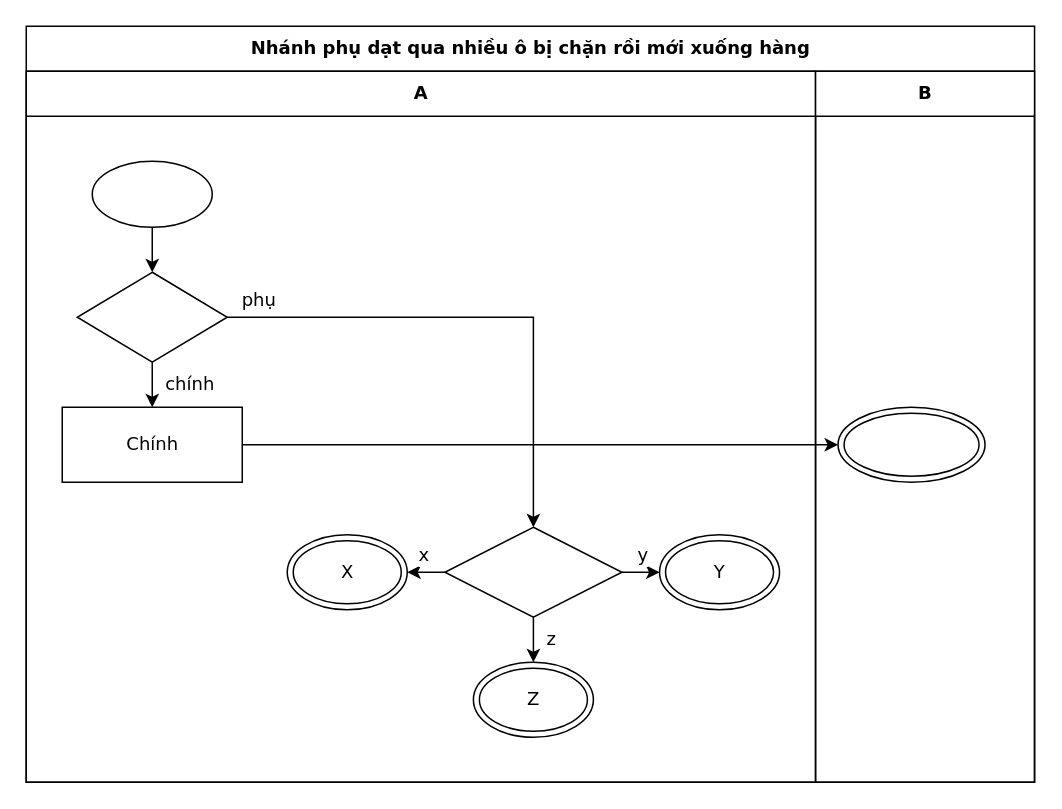
Some shapes in this 1062 by 809 pixel diagram are drawn without their labels. The box of each missing label's shape, as (x1, y1, x2, y2) in pixels:
Ba hướng?: (443, 526, 622, 617)
Rẽ?: (76, 271, 227, 362)
Sang B: (837, 406, 985, 482)
Vào: (91, 160, 212, 227)
